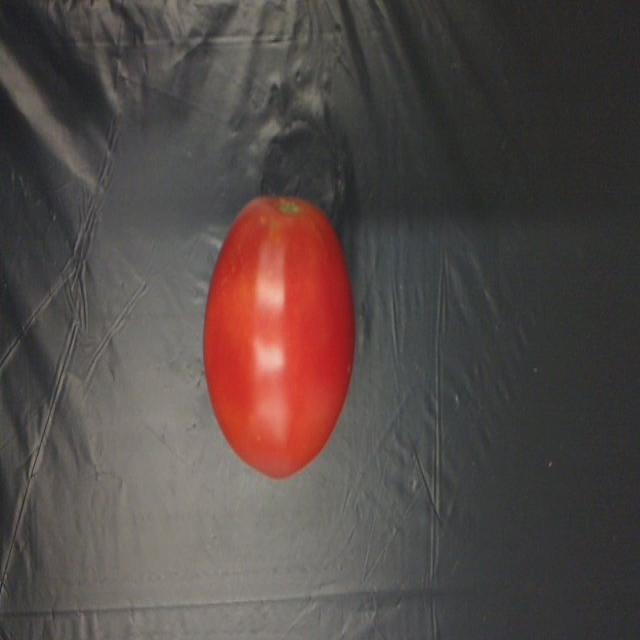kirmizi: (204, 183, 360, 486)
